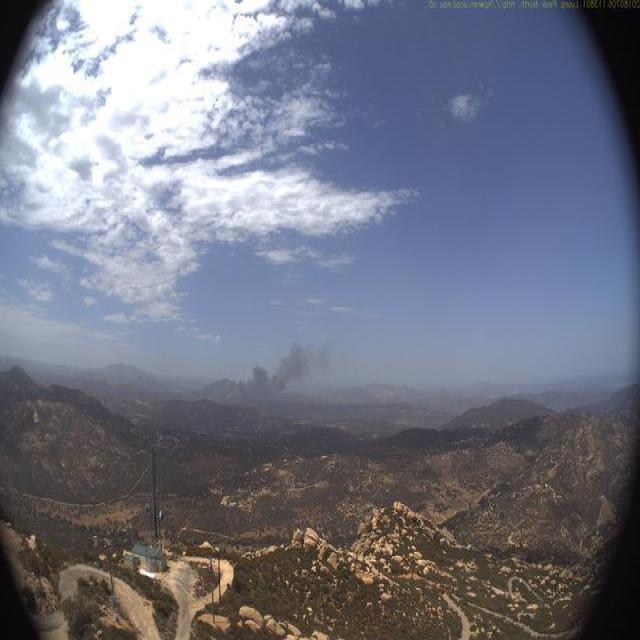Smoke: (195, 338, 335, 406)
